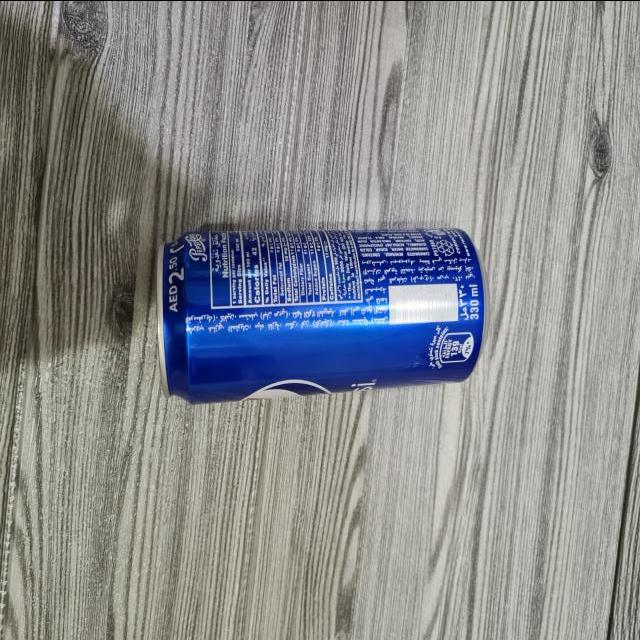can: (163, 215, 488, 401)
